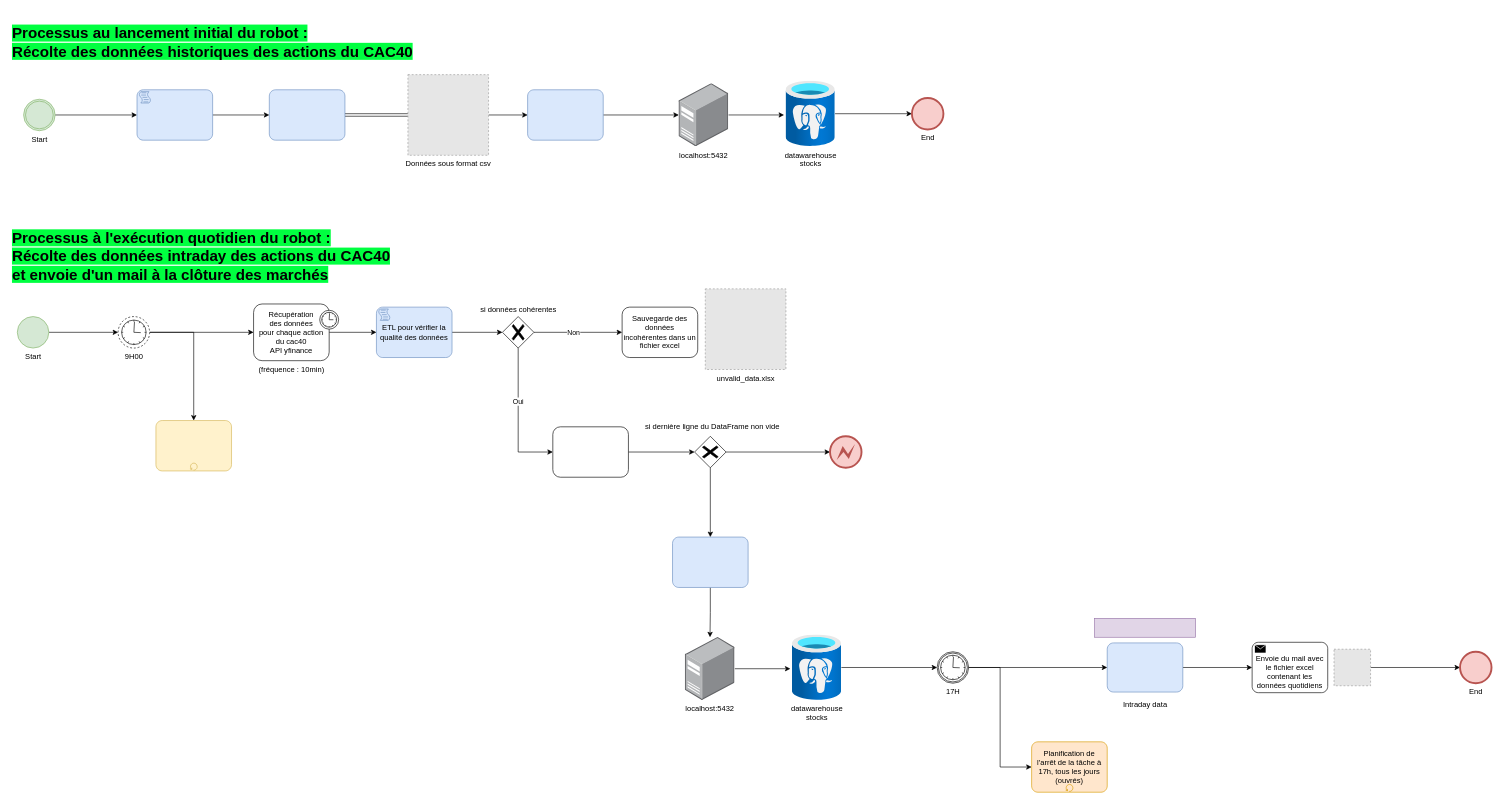
Some shapes in this 1503 by 803 pixel diagram are drawn without their labels. Grey dashed boxes stand in for pictures. The shapes that lost their labels are listed below. From the top down, each one's centre as x and y in pixels, then its label:
At (174,114): "Récupération des données API yfinance".
At (307,114): "Stockage dans le datalake".
At (565,114): "Création des tables et insertion des données dans la base PostgreSQL".
At (193,445): "Planification de la tâche à 9h, tous les jours (ouvrés)".
At (590,451): "Récupère la donnée la plus récente du jour pour chaque action".
At (845,452): "Fin du processus : regarder les logs".
At (710,561): "Insertion de la dernière ligne dans la base de données pour chaque table".
At (1144,627): "Boucle sur chaque action".
At (1145,667): "Récupération des données quotidien dans la table".
